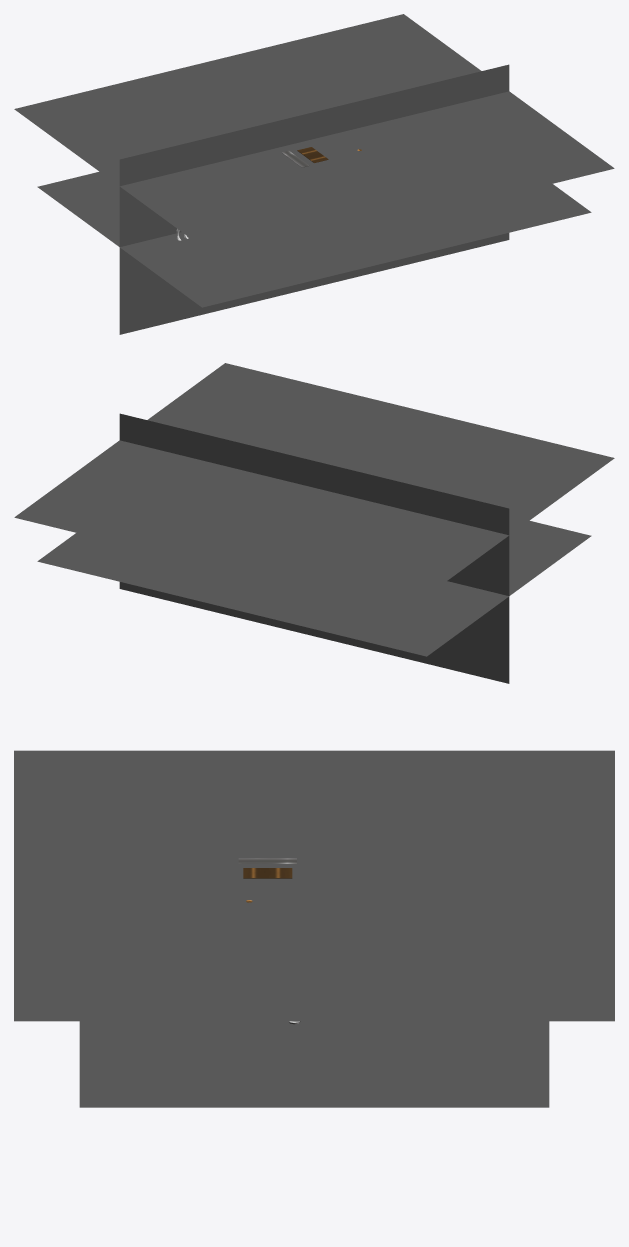
File: PS2_Lights.glb
The picture shows the model from 3 angles, top to bottom: view 1: azimuth 30°, elevation 25°; view 2: azimuth 150°, elevation 25°; view 3: azimuth 270°, elevation 25°; orthographic projection. The views are drawn at different scales.
Visible parts, largest first — view 1: Plane.001, Plane.002, Plane; view 2: Plane.001, Plane.002, Plane; view 3: Plane.001, Plane.002.
Part boxes in pixels (x1,y1,x2,y2): Plane.001: (14, 14, 614, 263); Plane.002: (37, 171, 591, 307); Plane: (119, 64, 509, 334); Plane.001: (14, 363, 614, 612); Plane.002: (37, 520, 591, 656); Plane: (119, 413, 509, 683); Plane.001: (14, 750, 614, 1021); Plane.002: (79, 1021, 549, 1107).
Size of the model in its own units: 18.6 by 8 by 17.46.
3 materials, 1 textured.
